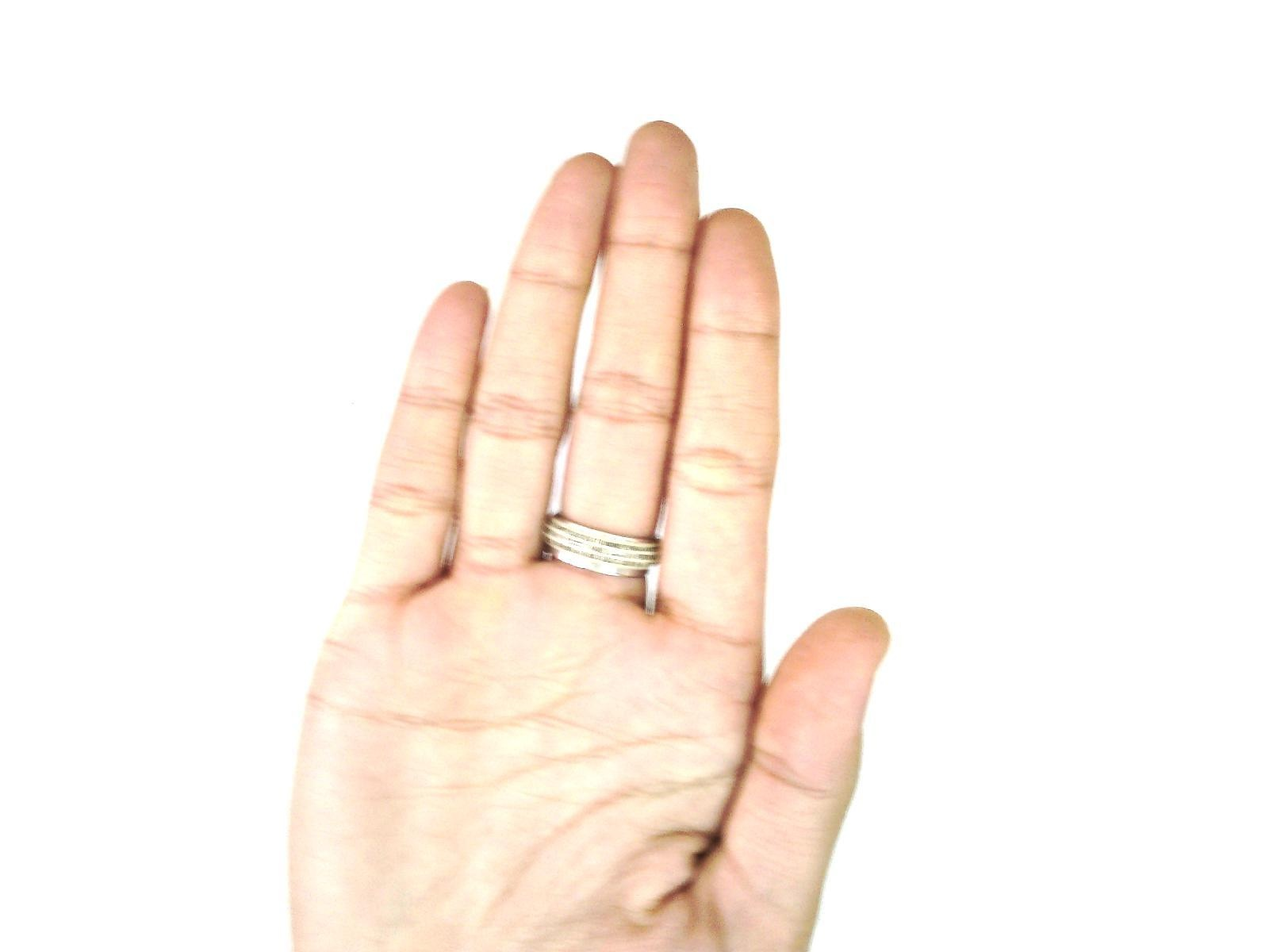open_palm: (283, 120, 893, 952)
